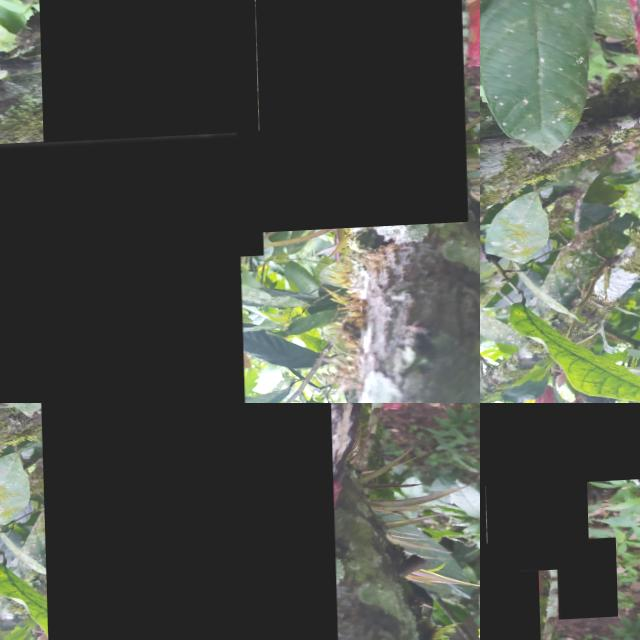Monilia: (35, 403, 337, 640), (480, 403, 540, 640)
Sana: (0, 135, 241, 403), (38, 0, 260, 267), (223, 0, 464, 236), (482, 403, 588, 578), (508, 403, 640, 490), (555, 544, 616, 625)
